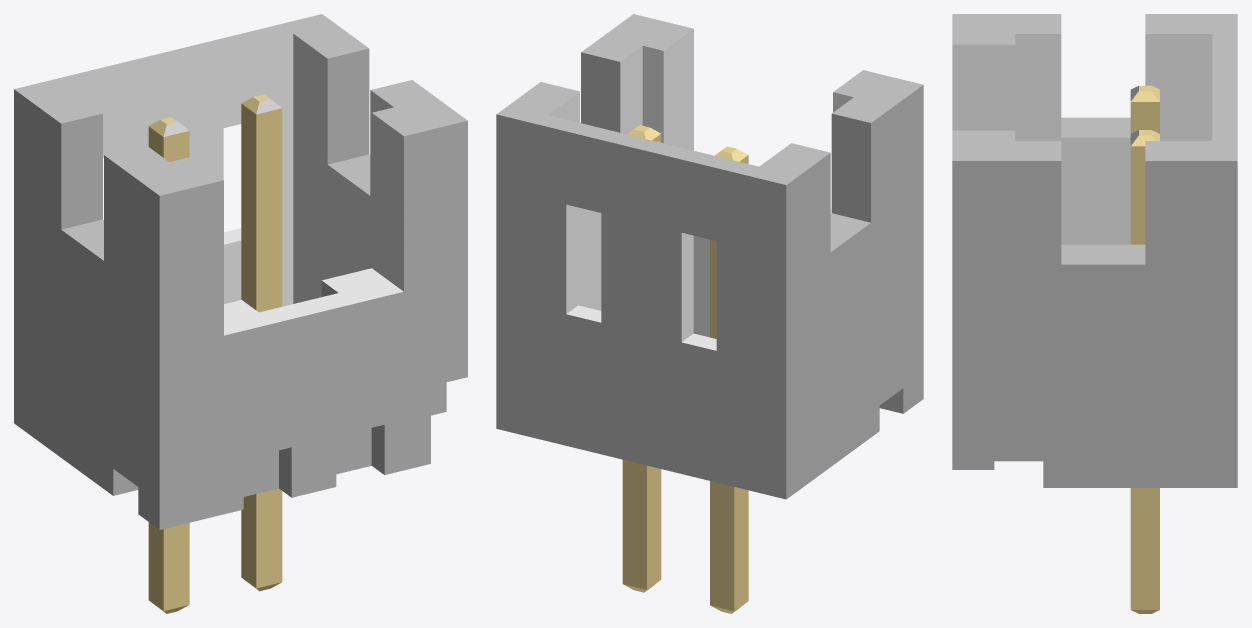
The model's file is DF13-2P-1.25DSA(50).obj.
The picture shows the model from 3 angles, left to right: view 1: azimuth 30°, elevation 25°; view 2: azimuth 150°, elevation 25°; view 3: azimuth 270°, elevation 25°; orthographic projection. The views are drawn at different scales.
Visible parts, largest first — view 1: DF13-2P-1.25DSA(50); view 2: DF13-2P-1.25DSA(50); view 3: DF13-2P-1.25DSA(50).
Part boxes in pixels (x1=…): DF13-2P-1.25DSA(50): x1=14, y1=14, x2=467, y2=613; DF13-2P-1.25DSA(50): x1=496, y1=14, x2=923, y2=613; DF13-2P-1.25DSA(50): x1=952, y1=14, x2=1237, y2=613.
Size of the model in its own units: 0.0111 by 0.0176 by 0.00906.
